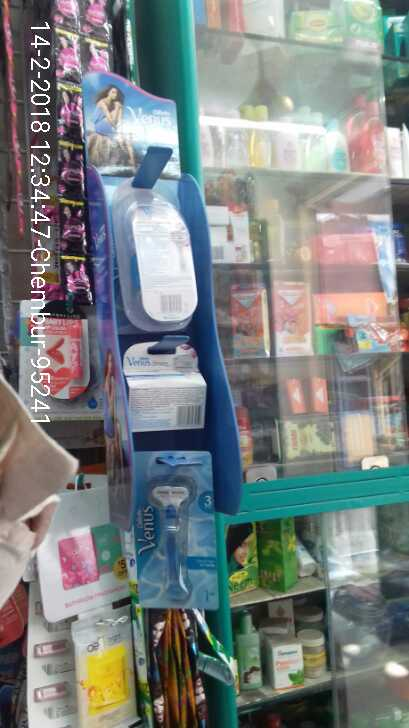venus: (124, 444, 224, 618)
